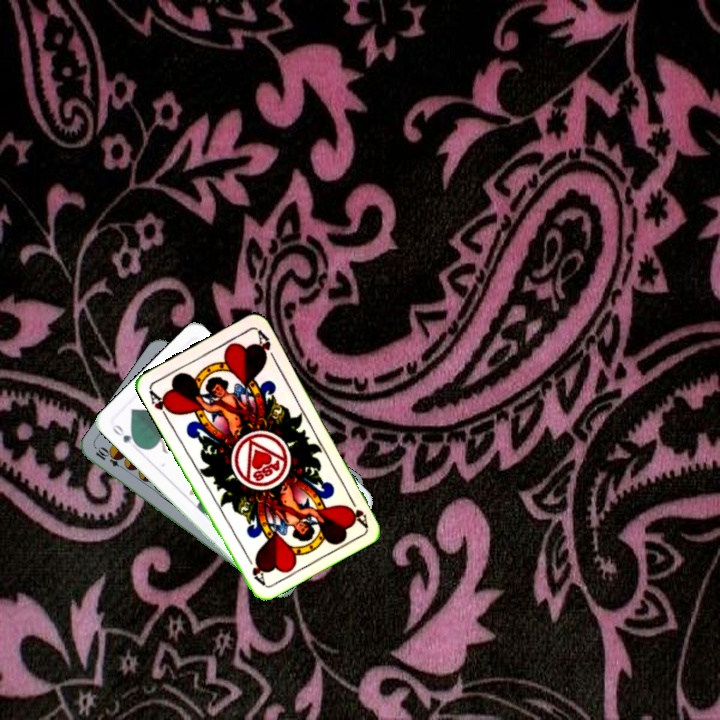E10: (91, 444, 129, 473)
GO: (108, 420, 143, 450)
HA: (145, 386, 176, 423), (343, 491, 370, 529)
